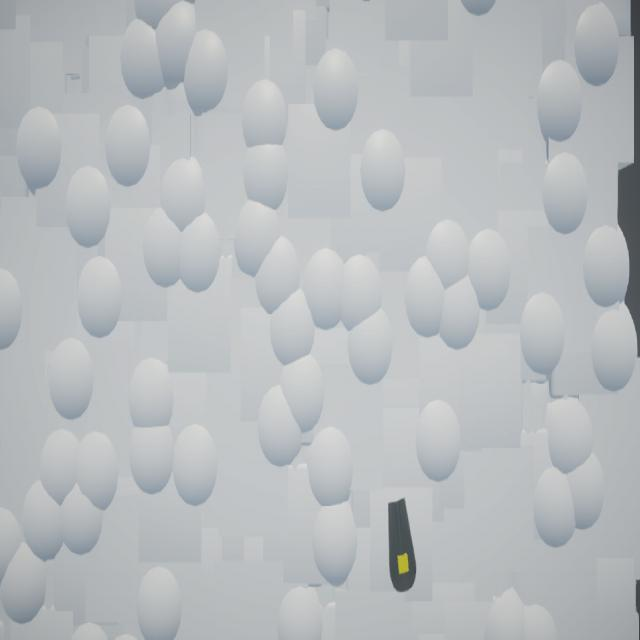handle_folk: (389, 498, 417, 594)
